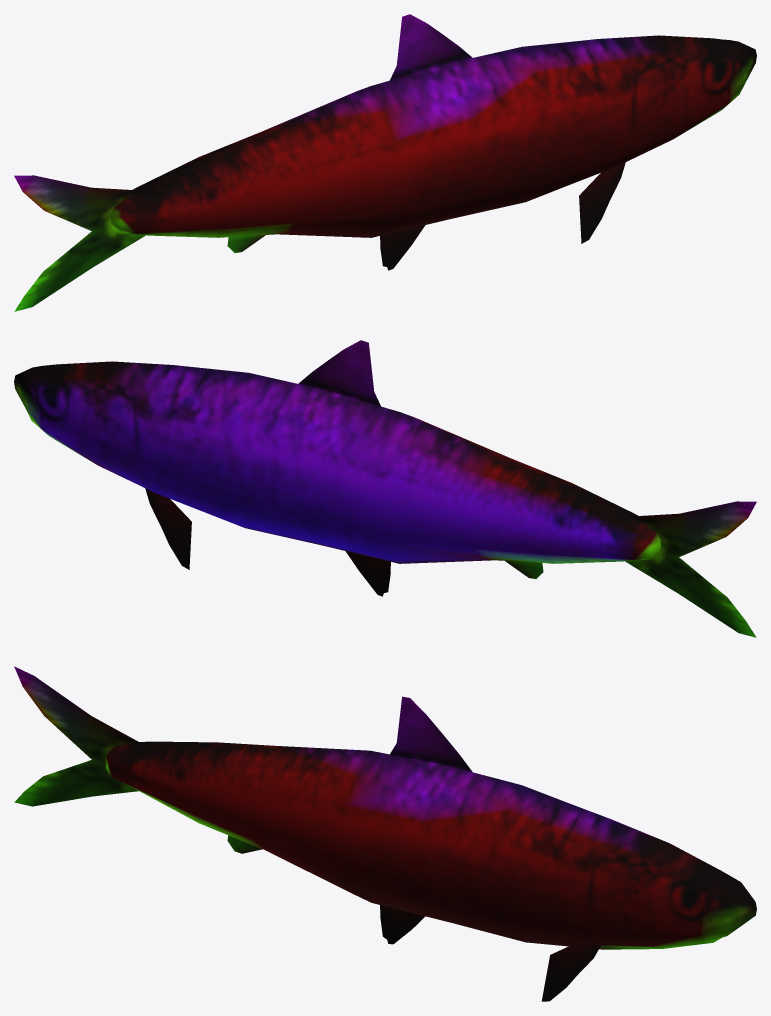
Rendered from european_sardine.glb.
The picture shows the model from 3 angles, top to bottom: view 1: azimuth 30°, elevation 25°; view 2: azimuth 150°, elevation 25°; view 3: azimuth 330°, elevation 25°; orthographic projection.
Parts seen in each view (by area): view 1: EuropeanSardine; view 2: EuropeanSardine; view 3: EuropeanSardine.
Part boxes in pixels (x1,y1,x2,y2): EuropeanSardine: (14, 14, 756, 311); EuropeanSardine: (14, 340, 756, 637); EuropeanSardine: (14, 666, 756, 1001).
Bounding box in the file's own units: 1 × 0.3245 × 0.1162.
1 material, 1 textured.
